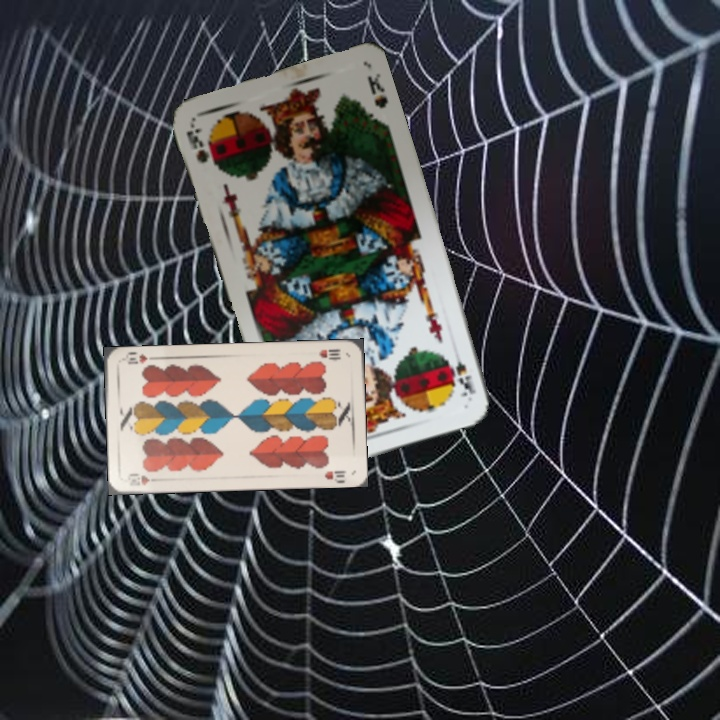H10: (125, 470, 152, 488), (315, 345, 343, 362)
SK: (447, 343, 479, 400), (182, 123, 217, 171)
